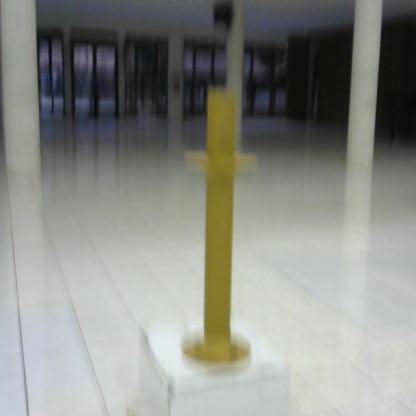pole: (173, 81, 272, 378)
